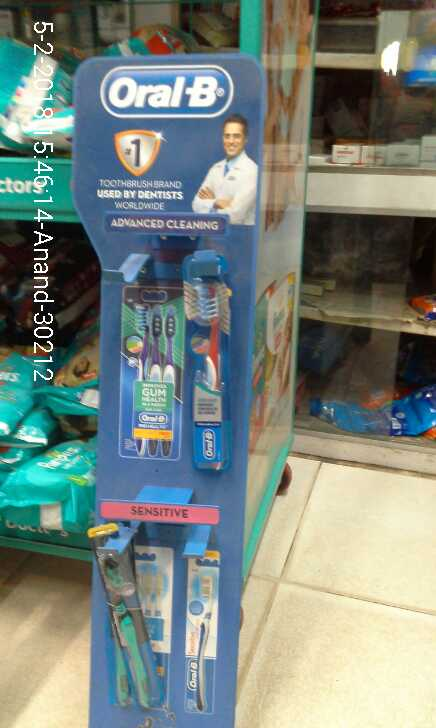oralb: (175, 261, 230, 476), (85, 544, 149, 713)
